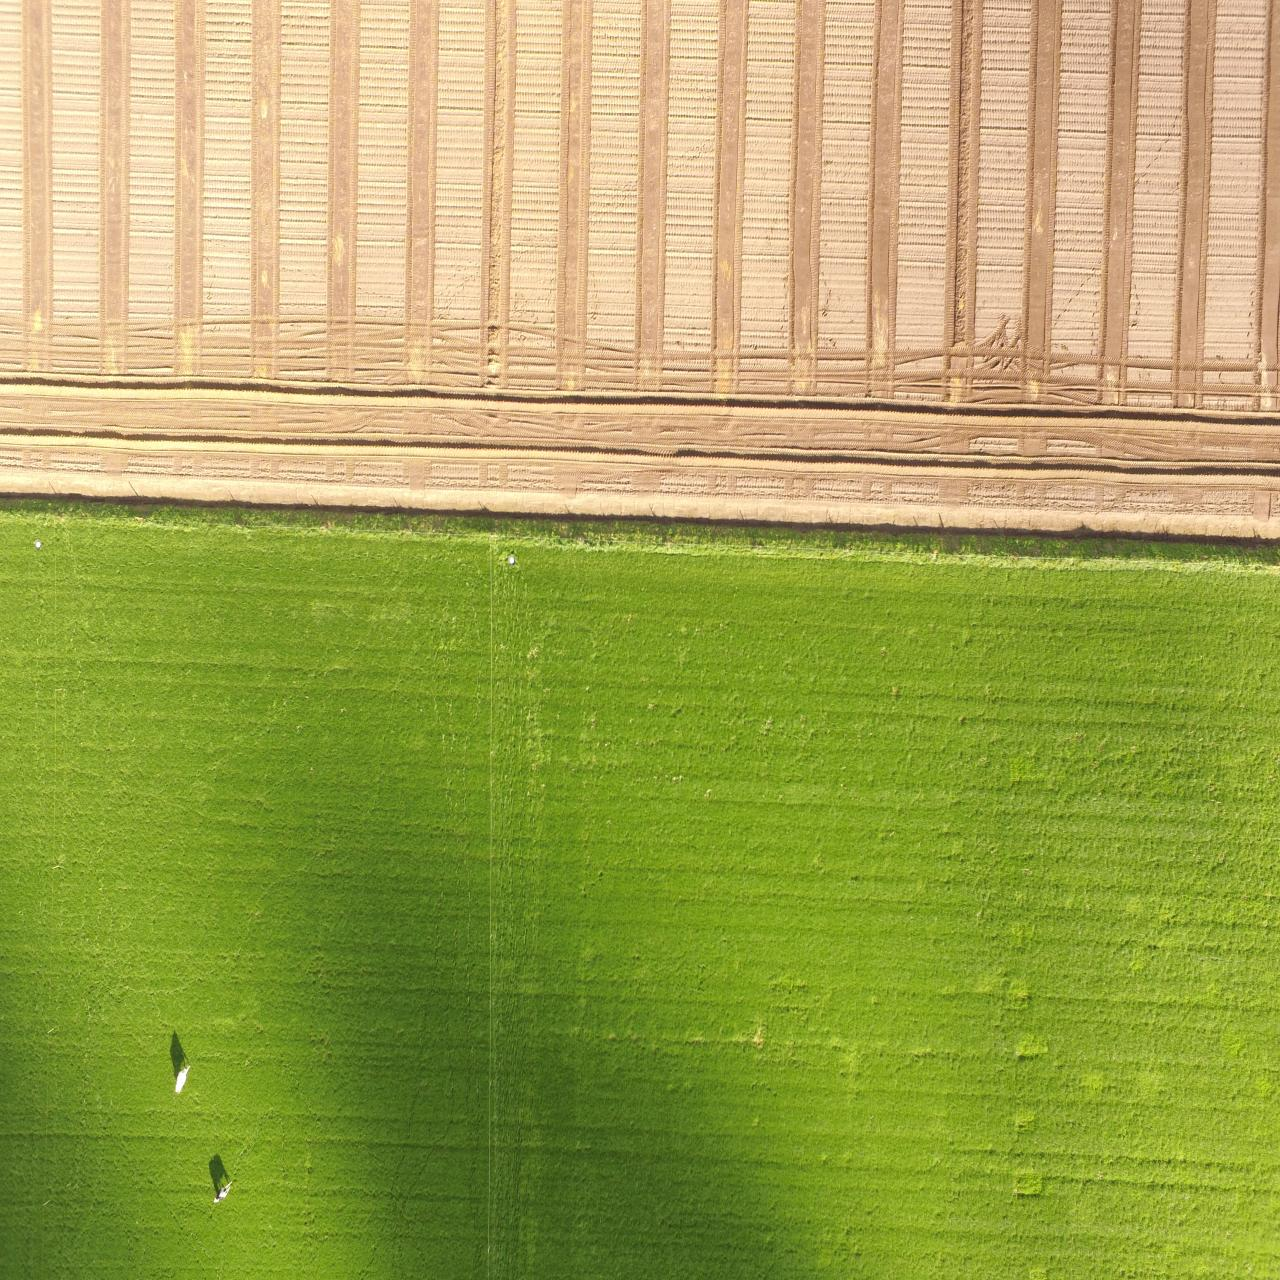cow: (172, 1063, 192, 1096), (213, 1178, 231, 1205)
